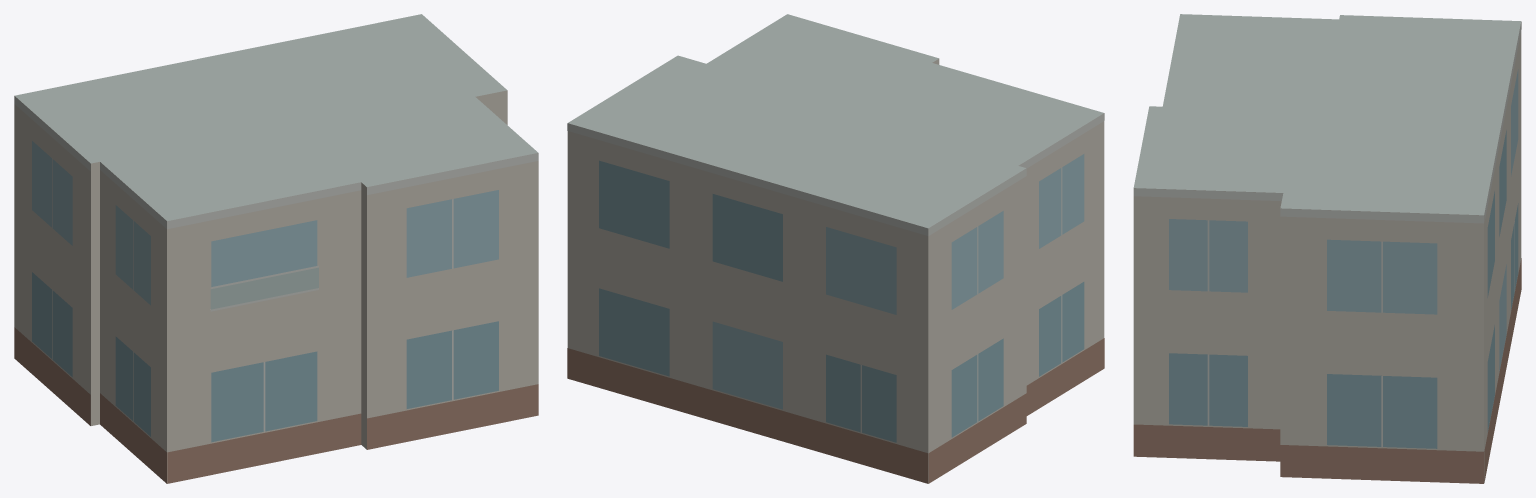
The model's file is survey-upis-32841646.glb.
3 renders of one model, left to right at view 1: azimuth 30°, elevation 25°; view 2: azimuth 150°, elevation 25°; view 3: azimuth 270°, elevation 25°, orthographic. The views are drawn at different scales.
Parts seen in each view (by area): view 1: survey-upis-32841646.tmp; view 2: survey-upis-32841646.tmp; view 3: survey-upis-32841646.tmp.
Boxes of the visible parts, bbox=[...] form: survey-upis-32841646.tmp: bbox=[14, 14, 538, 483]; survey-upis-32841646.tmp: bbox=[567, 14, 1104, 483]; survey-upis-32841646.tmp: bbox=[1133, 14, 1521, 483].
Size of the model in its own units: 12.84 by 7.98 by 10.45.
